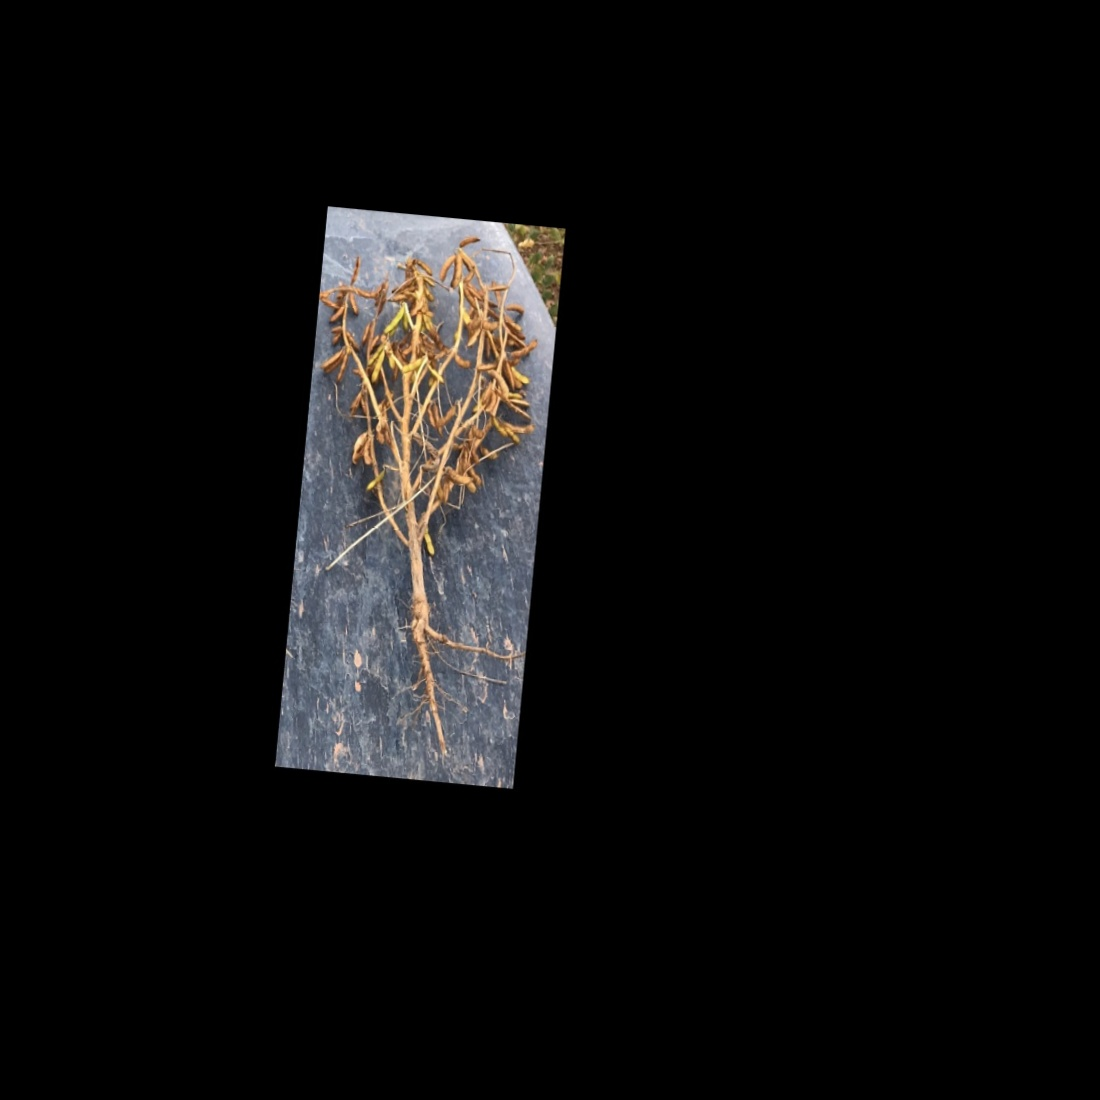pod: (382, 300, 406, 337), (369, 345, 390, 386), (509, 335, 542, 359), (437, 251, 457, 286), (442, 468, 475, 488), (487, 415, 510, 441), (343, 290, 364, 319), (334, 348, 350, 385), (456, 231, 483, 252), (412, 258, 436, 276), (448, 354, 473, 371), (326, 303, 345, 326), (503, 301, 528, 317)
soy: (283, 218, 554, 745)
